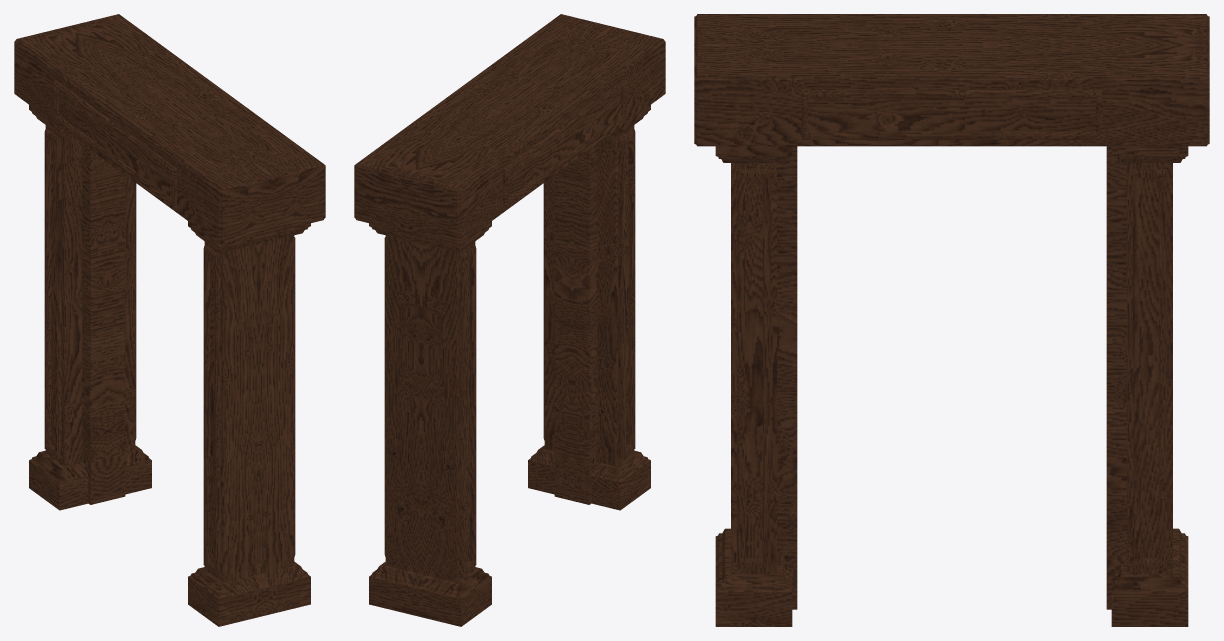
File: mansion_door_frame.glb
3 views of the same model, side by side, from view 1: azimuth 30°, elevation 25°; view 2: azimuth 150°, elevation 25°; view 3: azimuth 270°, elevation 25° (orthographic). The views are drawn at different scales.
Visible parts, largest first — view 1: SM_Door_Frame; view 2: SM_Door_Frame; view 3: SM_Door_Frame.
Boxes of the visible parts, x1,y1,x2,y2 form: SM_Door_Frame: (14,14,325,626); SM_Door_Frame: (354,14,665,626); SM_Door_Frame: (694,14,1209,626).
Bounding box in the file's own units: 0.8895 × 3.32 × 2.8.
Materials: 1 (1 with a texture image).
